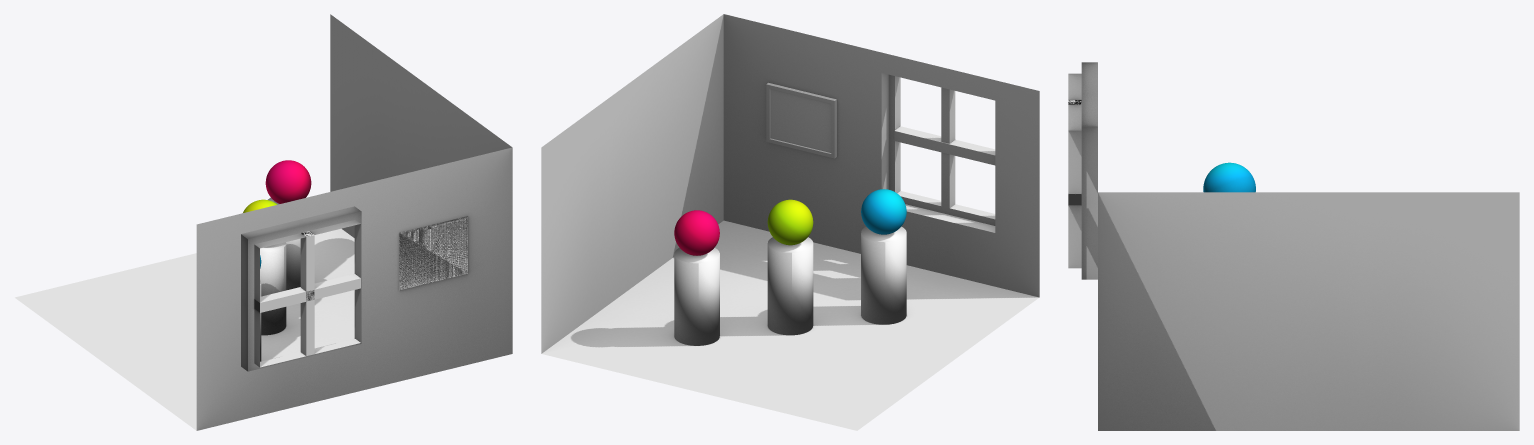
File: room.dae
3 views of the same model, side by side, from view 1: azimuth 30°, elevation 25°; view 2: azimuth 150°, elevation 25°; view 3: azimuth 270°, elevation 25° (orthographic). The views are drawn at different scales.
Visible parts, largest first — view 1: Plane_001; view 2: Plane_001; view 3: Plane_001.
Part boxes in pixels (x1,y1,x2,y2): Plane_001: (15,14,512,430); Plane_001: (541,14,1039,430); Plane_001: (1068,62,1519,430).
Size of the model in its own units: 16 by 17.12 by 10.
Materials: 1 (1 with a texture image).
